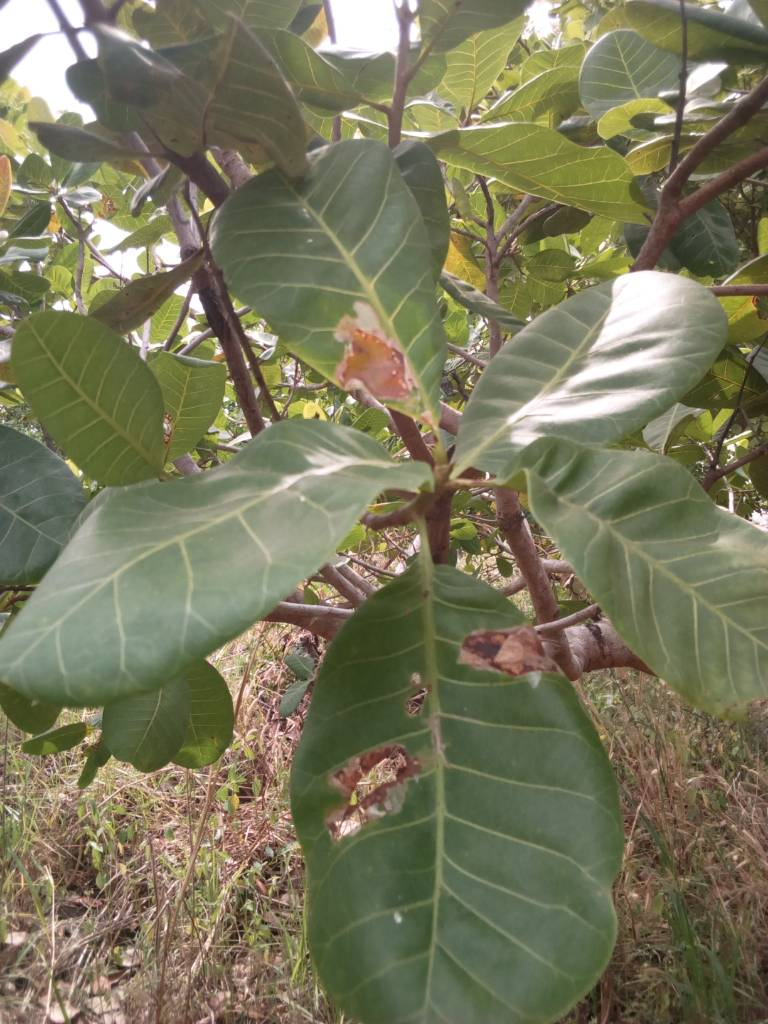Dysdercus wolkerii: (191, 111, 510, 485)
